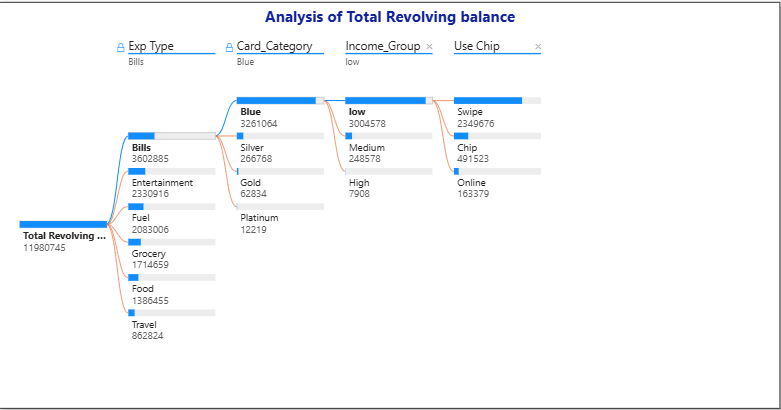

What the dashboard file says about the page in this screenshot:
{"tool":"powerbi","page":{"name":"Analysis of Total Revolving Balance","canvas":[1280,720],"ordinal":2},"visuals":[{"type":"decompositionTreeVisual","title":"Analysis of Total Revolving balance","fields":{"ExplainBy":["CreditCard.Exp Type","CreditCard.Card_Category","customer.Income_Group","CreditCard.Use Chip"],"Analyze":["Sum(CreditCard.Total_Revolving_Bal)"]},"box":[56.9,77.6,1165.5,606.9],"z":0},{"type":"actionButton","box":[12.1,15.5,41.4,41.4],"z":1000}]}

Visuals, with their boxes on the page's 1280x720 design canvas (x1, y1, x2, y2). These are canvas units, not pixel positions in the 781x410 screenshot, which may show the page scaled, cropped or inside an application window:
"Analysis of Total Revolving balance" decompositionTreeVisual: {"x1": 57, "y1": 78, "x2": 1222, "y2": 684}
actionButton: {"x1": 12, "y1": 16, "x2": 54, "y2": 57}
